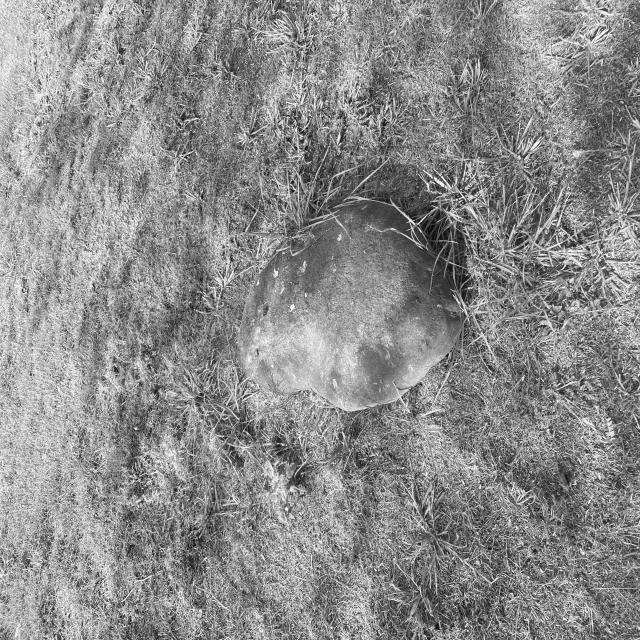Stone: (238, 201, 460, 411)
